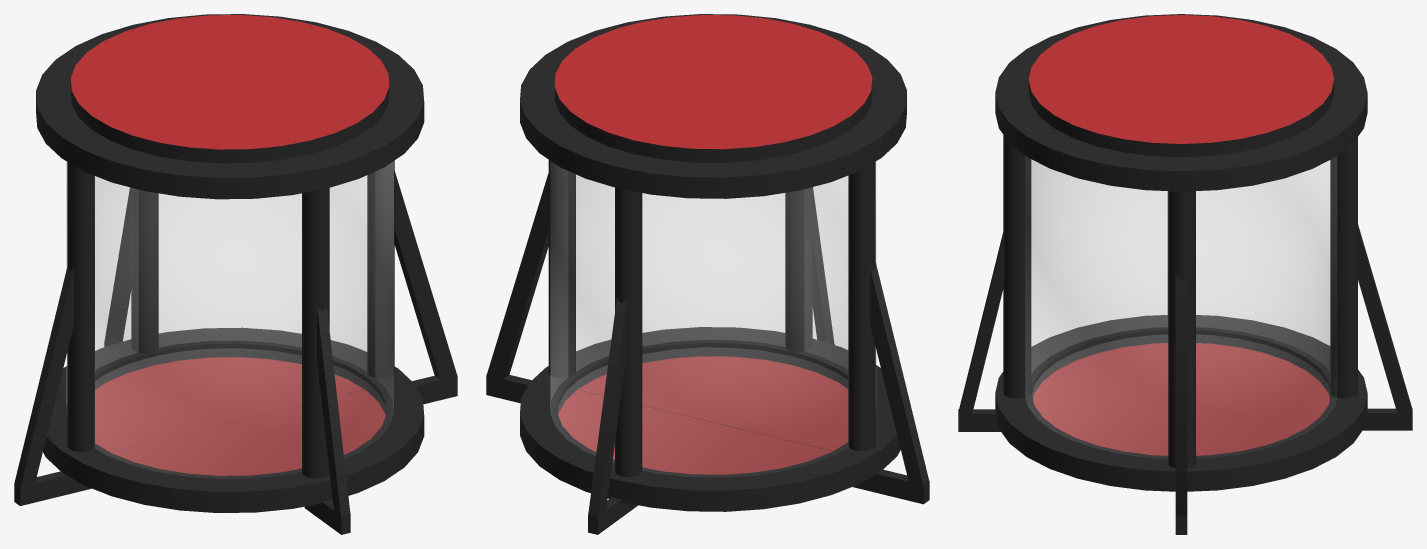
File: sostenedor de cubo.fbx
3 views of the same model, side by side, from view 1: azimuth 30°, elevation 25°; view 2: azimuth 150°, elevation 25°; view 3: azimuth 270°, elevation 25° (orthographic). The views are drawn at different scales.
Visible parts, largest first — view 1: Cylinder.010, Cylinder.001, Cylinder, Cylinder.003, Cylinder.009, Cylinder.008, Cylinder.007, Cube.002, Cylinder.005, Cube.001, Cylinder.006, Cylinder.004 (+1 smaller); view 2: Cylinder.010, Cylinder.001, Cylinder, Cylinder.009, Cylinder.003, Cylinder.008, Cylinder.006, Cube.002, Cylinder.005, Cube.001, Cylinder.007, Cylinder.002 (+1 smaller); view 3: Cylinder.010, Cylinder.001, Cylinder, Cylinder.009, Cylinder.003, Cylinder.007, Cylinder.006, Cube.002, Cylinder.002, Cube.001, Cylinder.004.
Boxes of the visible parts, box(x1,y1,x2,y2) form: Cylinder.010: box(66, 161, 393, 478); Cylinder.001: box(36, 14, 424, 199); Cylinder: box(43, 327, 424, 512); Cylinder.003: box(95, 357, 364, 451); Cylinder.009: box(110, 390, 385, 475); Cylinder.008: box(67, 162, 94, 452); Cylinder.007: box(302, 188, 329, 478); Cube.002: box(367, 160, 394, 378); Cylinder.005: box(14, 266, 91, 505); Cube.001: box(394, 171, 457, 404); Cylinder.006: box(131, 188, 158, 363); Cylinder.004: box(304, 306, 350, 534); Cylinder.010: box(550, 161, 876, 477); Cylinder.001: box(520, 14, 906, 198); Cylinder: box(520, 327, 900, 511); Cylinder.009: box(578, 356, 848, 451); Cylinder.003: box(558, 389, 831, 474); Cylinder.008: box(848, 161, 875, 450); Cylinder.006: box(615, 187, 642, 476); Cube.002: box(548, 160, 575, 378); Cylinder.005: box(853, 262, 929, 504); Cube.001: box(486, 173, 548, 403); Cylinder.007: box(785, 187, 812, 352); Cylinder.002: box(588, 297, 637, 534); Cylinder.010: box(1026, 157, 1336, 457); Cylinder.001: box(995, 14, 1367, 191); Cylinder: box(995, 315, 1367, 491); Cylinder.009: box(1033, 343, 1168, 455); Cylinder.003: box(1196, 343, 1329, 455); Cylinder.007: box(1003, 135, 1031, 398); Cylinder.006: box(1330, 137, 1357, 398); Cube.002: box(1168, 191, 1195, 468); Cylinder.002: box(1356, 224, 1412, 430); Cube.001: box(1175, 275, 1187, 534); Cylinder.004: box(958, 232, 1004, 431).
Bounding box in the file's own units: 308 × 248 × 289.
